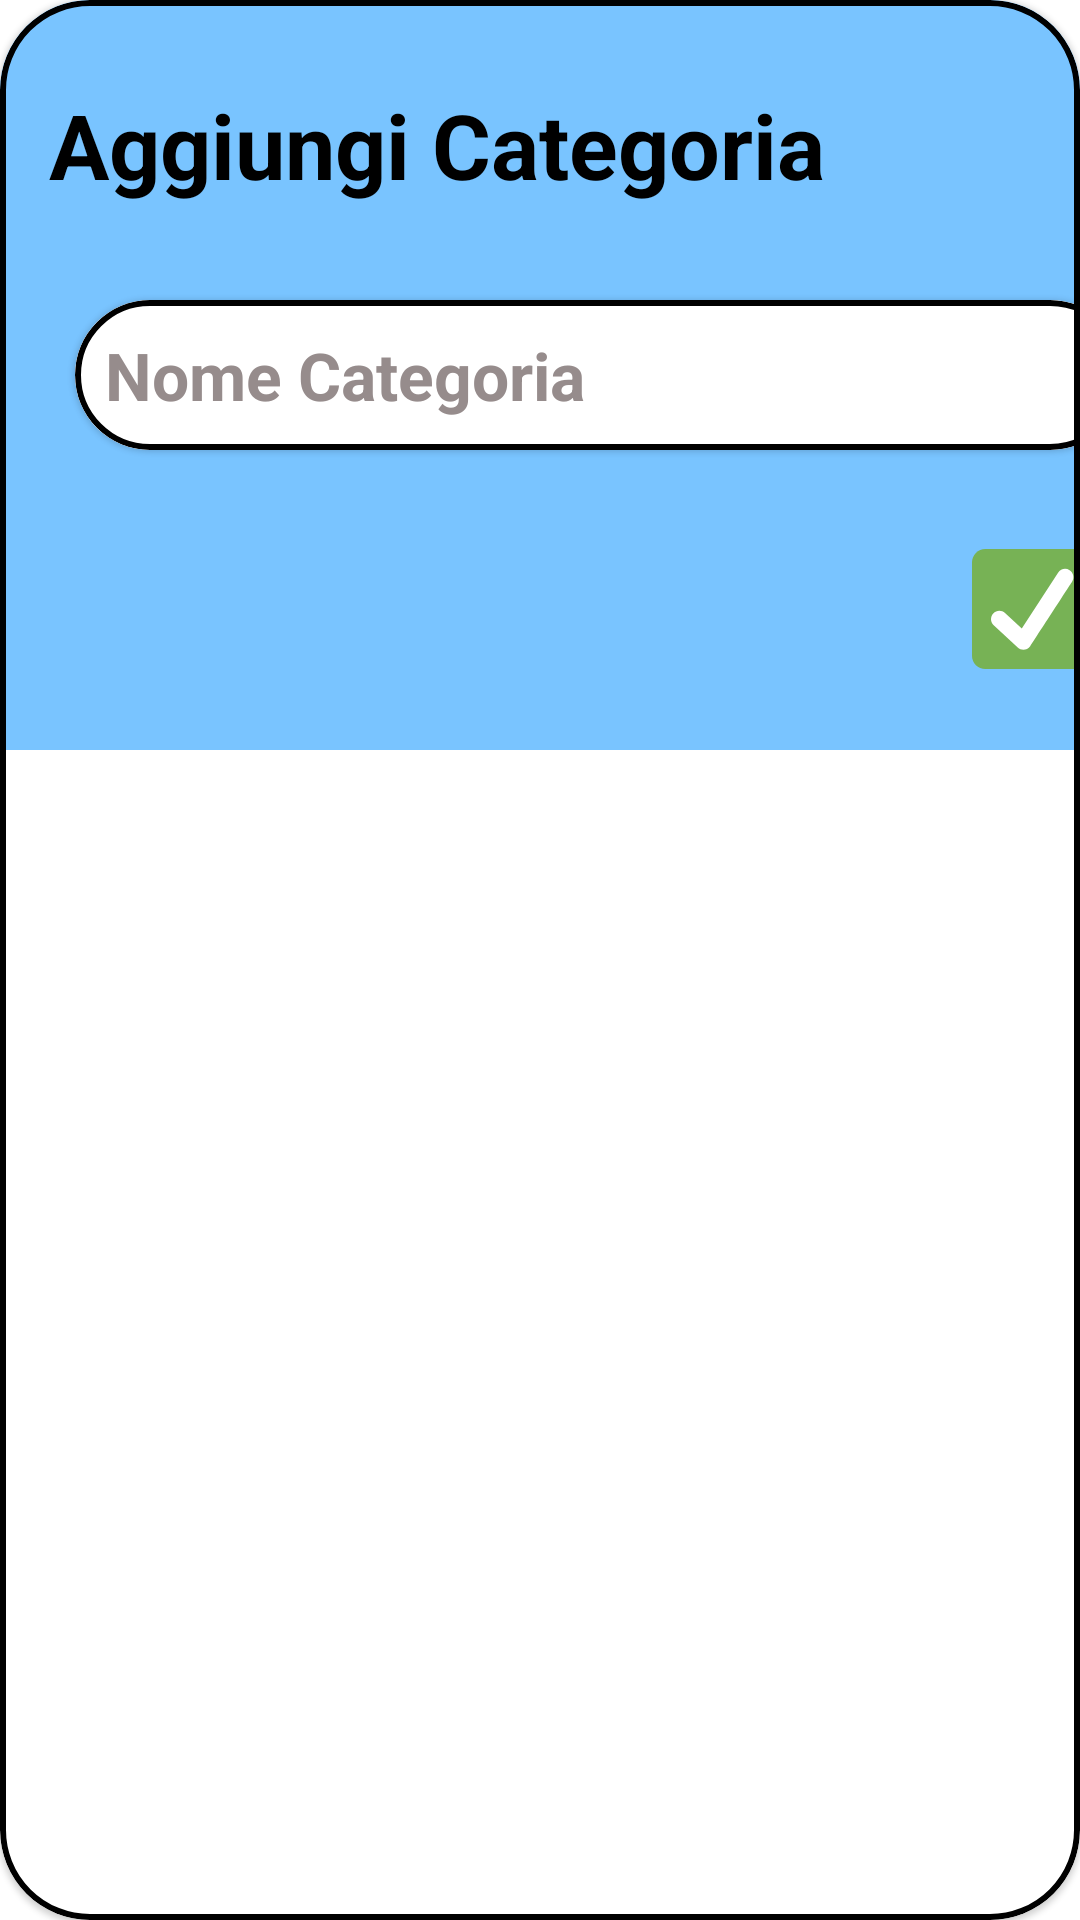

Screen size 1080 × 1920. Icon name, then its box in pixels as (x1, y1, x2, y2):
confirmvector: (972, 549, 1080, 669)
